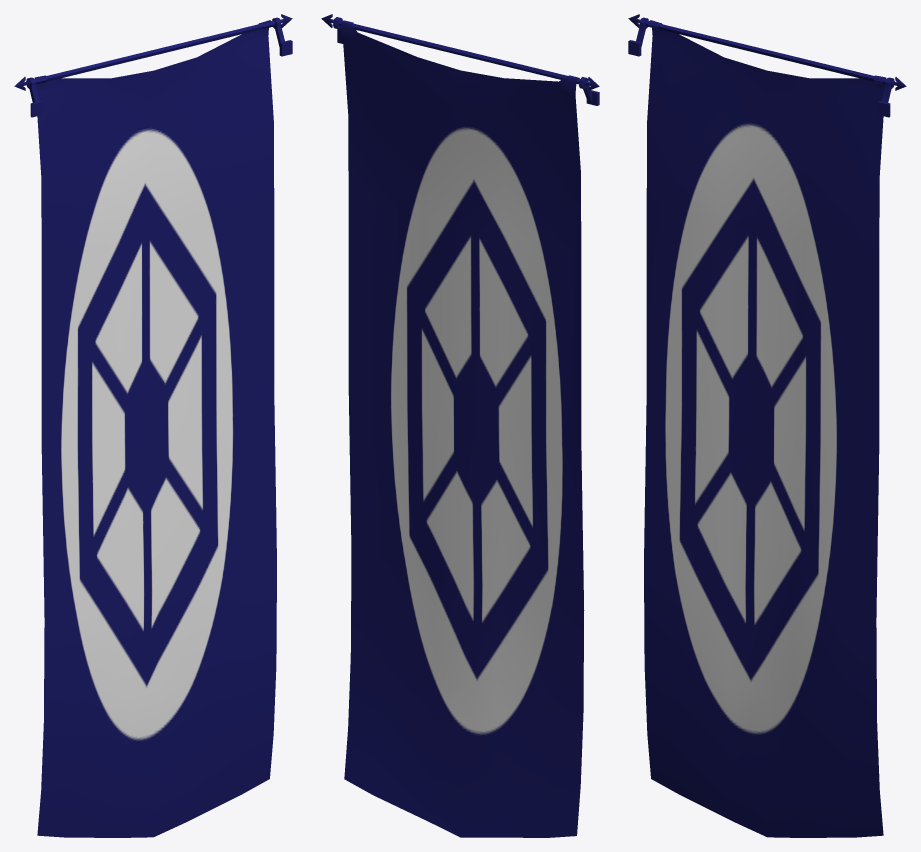
The model's file is Banners.fbx.
3 views of the same model, side by side, from view 1: azimuth 30°, elevation 25°; view 2: azimuth 150°, elevation 25°; view 3: azimuth 330°, elevation 25° (orthographic).
Visible parts, largest first — view 1: Banner_Long; view 2: Banner_Long; view 3: Banner_Long.
Boxes of the visible parts, box(x1,y1,x2,y2) form: Banner_Long: box(14, 14, 292, 837); Banner_Long: box(321, 14, 599, 837); Banner_Long: box(628, 14, 906, 837).
Size of the model in its own units: 191 by 520 by 13.26.
